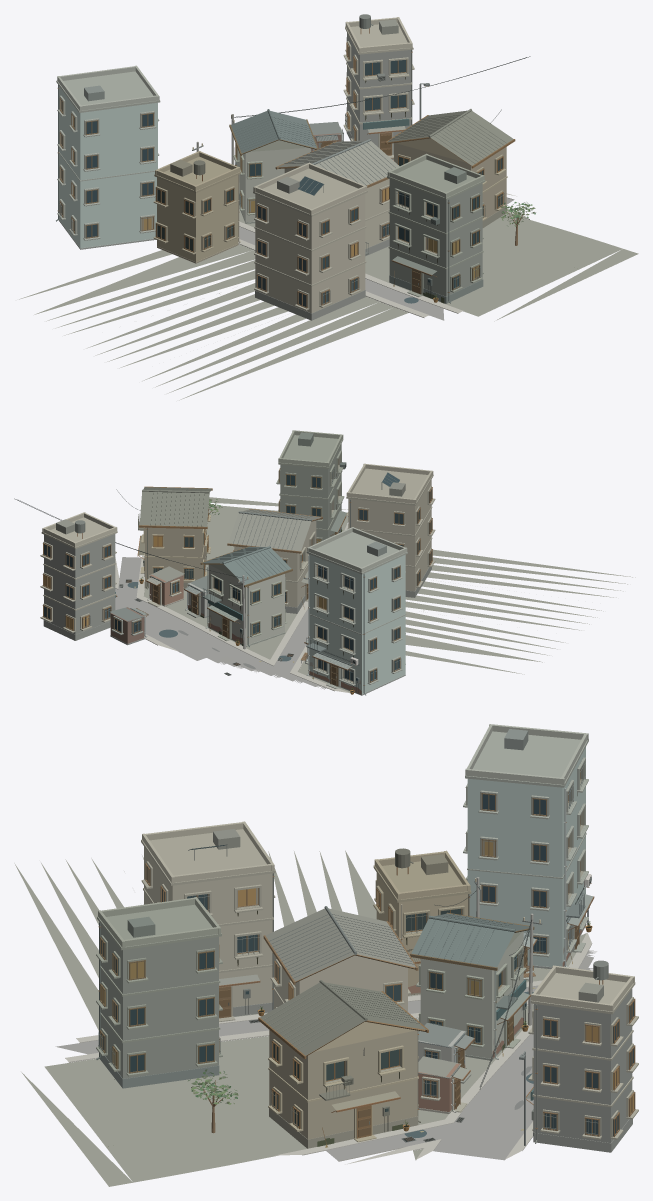
File: street_5_4.glb
The picture shows the model from 3 angles, top to bottom: view 1: azimuth 30°, elevation 25°; view 2: azimuth 150°, elevation 25°; view 3: azimuth 270°, elevation 25°; orthographic projection. The views are drawn at different scales.
Parts seen in each view (by area): view 1: ground.077, plaster.006, trim.006, mint_plaster, concrete.009, wood.006, roof_tile.005, roof_metal.006, glass.006, graybrick.005, metal.006, hero_plaster.001 (+3 smaller); view 2: trim.006, ground.077, plaster.006, mint_plaster, road.020, concrete.009, graybrick.005, roof_metal.006, wood.006, roof_tile.005, glass.006, hero_plaster.001 (+7 smaller); view 3: trim.006, ground.077, plaster.006, concrete.009, mint_plaster, graybrick.005, roof_metal.006, wood.006, roof_tile.005, road.020, metal.006, glass.006 (+8 smaller).
Part boxes in pixels (x1,y1,x2,y2): ground.077: (19,208,638,400); plaster.006: (57,17,484,313); trim.006: (56,23,507,310); mint_plaster: (59,86,157,248); concrete.009: (58,114,506,296); wood.006: (59,42,524,308); roof_tile.005: (231,109,513,165); roof_metal.006: (84,19,466,274); glass.006: (61,44,502,306); graybrick.005: (255,33,506,320); metal.006: (56,14,504,305); hero_plaster.001: (236,148,311,222); trim.006: (40,435,435,688); ground.077: (144,497,635,692); plaster.006: (42,430,433,607); mint_plaster: (309,554,405,694); road.020: (115,557,326,689); concrete.009: (110,444,405,695); graybrick.005: (43,527,431,640); roof_metal.006: (56,432,405,669); wood.006: (42,459,432,686); roof_tile.005: (139,487,311,585); glass.006: (44,472,431,681); hero_plaster.001: (188,564,284,645); trim.006: (96,731,638,1142); ground.077: (14,850,586,1186); plaster.006: (98,724,634,1051); concrete.009: (100,877,586,1139); mint_plaster: (467,747,585,966); graybrick.005: (99,933,632,1152); roof_metal.006: (127,729,603,1110); wood.006: (99,769,635,1143); roof_tile.005: (260,906,530,1055); road.020: (55,950,596,1161); metal.006: (96,761,608,1145); glass.006: (101,794,633,1135).
Size of the model in its own units: 52.07 by 13.42 by 38.51.
